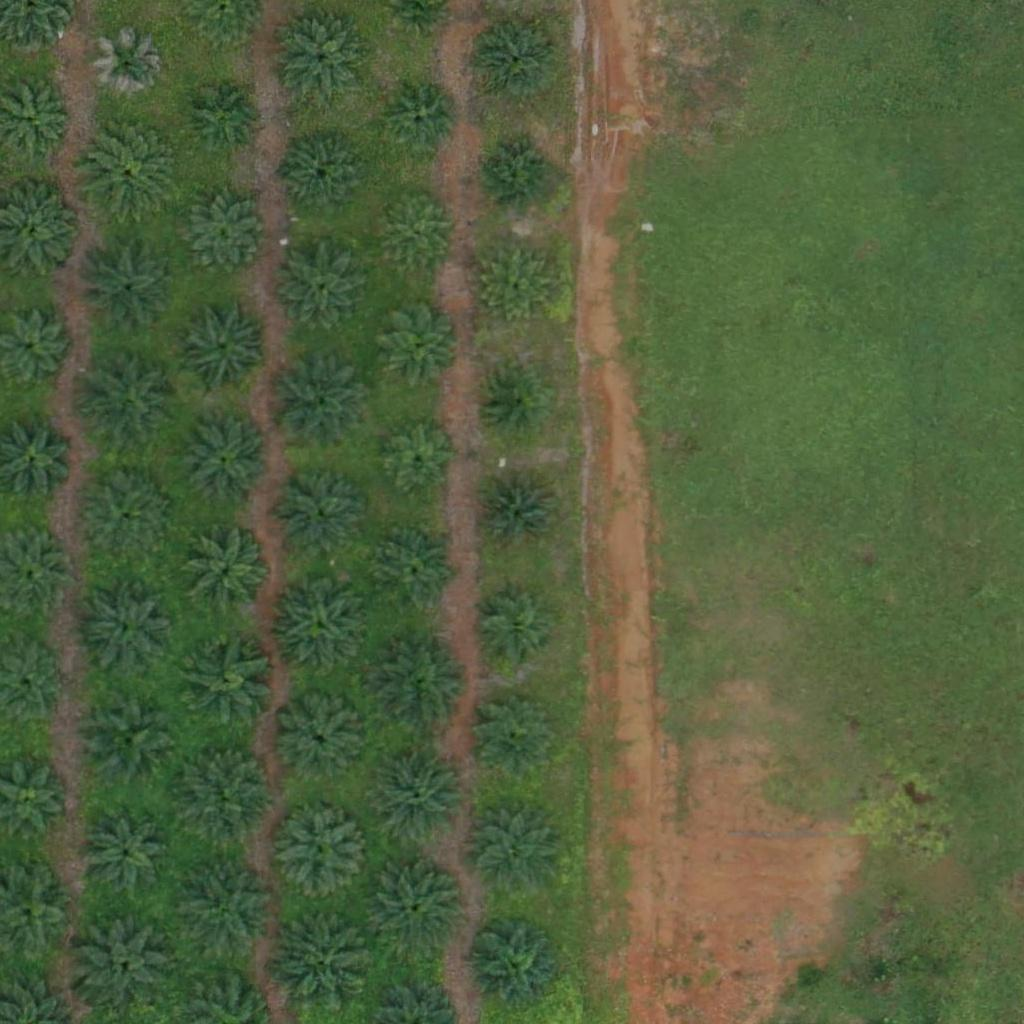Kelapa_Sawit: (83, 120, 183, 221), (266, 354, 366, 455), (171, 185, 271, 286), (171, 295, 271, 396), (77, 235, 177, 336), (80, 688, 180, 789), (175, 741, 275, 842), (180, 862, 280, 963), (271, 801, 371, 902), (270, 912, 370, 1013), (373, 746, 473, 847), (366, 857, 466, 958), (465, 916, 565, 1017), (369, 635, 469, 735), (269, 574, 369, 674), (175, 631, 275, 731), (80, 351, 180, 451), (75, 578, 175, 678), (74, 910, 174, 1010), (281, 132, 369, 221), (277, 697, 365, 786), (180, 72, 268, 160), (471, 590, 559, 678), (471, 18, 559, 106), (374, 527, 462, 615), (276, 246, 364, 334), (275, 471, 363, 559), (82, 811, 170, 899), (372, 299, 459, 387), (475, 471, 562, 559), (278, 18, 365, 106), (180, 419, 267, 507), (183, 530, 270, 618), (83, 479, 170, 567), (471, 691, 558, 779), (471, 806, 558, 894), (385, 83, 460, 158), (383, 425, 458, 500), (475, 246, 550, 321), (482, 138, 557, 213), (91, 29, 166, 104), (377, 194, 452, 269), (480, 369, 543, 432)
